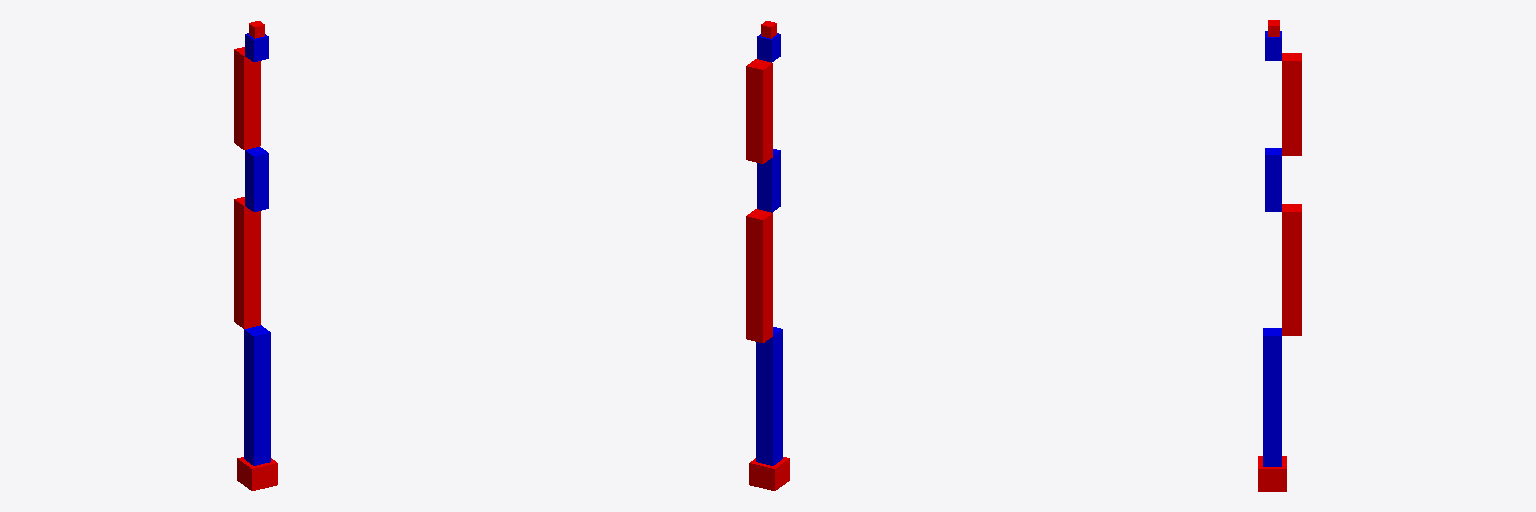
The robot description file, URDF, robot "armdemo":
<?xml version="1.0" ?>
<robot name="armdemo">

  <material name="red">
    <color rgba="1.0 0.0 0.0 1.0"/>
  </material>
  <material name="green">
    <color rgba="0.0 1.0 0.0 1.0"/>
  </material>
  <material name="blue">
    <color rgba="0.0 0.0 1.0 1.0"/>
  </material>

  <!-- base(world) -->
  <link name="base_link"/>
  
  <!-- base joint  -->
  <joint name="base_joint" type="fixed">
    <parent link="base_link"/>
    <child link="link1"/>
  </joint>
 
  <!-- Link1 link & joint -->
  <link name="link1">
    <collision>
      <origin rpy="0 0 0" xyz="0 0 0.05"/>
      <geometry>
        <box size="0.12 0.12 0.1"/>
      </geometry>
    </collision>
    <visual>
      <origin rpy="0 0 0" xyz="0 0 0.05"/>
      <geometry>
        <box size="0.12 0.12 0.1"/>
      </geometry>
      <material name="red"/>
    </visual>
    <inertial>
      <origin rpy="0 0 0" xyz="0 0 0"/>
      <mass value="50"/>
      <inertia ixx="0" ixy="0.1" ixz="0.0" iyy="1" iyz="0.0" izz="0.1"/>
    </inertial>
  </link>
   <joint name="joint1" type="revolute">
    <parent link="link1"/>
    <child link="link2"/>
    <origin rpy="0 0 0" xyz="0 0 0.1"/>
   
    <axis xyz="0 0 1"/>
    <dynamics damping="0.05"/>
    <limit effort="30" lower="-3" upper="3" velocity="2"/>
  </joint>
  
  <!-- Link2 link & joint -->
  <link name="link2">
    <collision>
      <origin rpy="0 0 0" xyz="0 0 0.29"/>
      <geometry>
        <box size="0.08 0.08 0.58"/>
      </geometry>
    </collision>
    <visual>
      <origin rpy="0 0 0" xyz="0 0 0.29"/>
      <geometry>
        <box size="0.08 0.08 0.58"/>
      </geometry>
      <material name="blue"/>
    </visual>
    <inertial>
      <origin rpy="0 0 0" xyz="0 0 0.1"/>
      <mass value="0.1"/>
      <inertia ixx="0.01" ixy="0.0" ixz="0.0" iyy="0.01" iyz="0.0" izz="0.01"/>
    </inertial>
  </link>
  <joint name="joint2" type="revolute">
    <parent link="link2"/>
    <child link="link3"/>
    <origin rpy="0 0 0" xyz="0 0.08 0.58"/>
   
    <axis xyz="0 1 0"/>
    <dynamics damping="0.05"/>
    <limit effort="30" lower="-1.6" upper="1.6" velocity="2"/>
  </joint>
  
  <!-- Link3 link & joint -->
 
  <link name="link3">
    <collision>
      <origin rpy="0 0 0" xyz="0 0 0.275"/>
      <geometry>
        <box size="0.08 0.08 0.55"/>
      </geometry>
    </collision>
    <visual>
      <origin rpy="0 0 0" xyz="0 0 0.275"/>
      <geometry>
        <box size="0.08 0.08 0.55"/>
      </geometry>
      <material name="red"/>
    </visual>
    <inertial>
      <origin rpy="0 0 0" xyz="0 0 0.1"/>
      <mass value="0.1"/>
       <inertia ixx="0.01" ixy="0.0" ixz="0.0" iyy="0.01" iyz="0.0" izz="0.01"/>
    </inertial>
  </link>
  <joint name="joint3" type="revolute">
    <parent link="link3"/>
    <child link="link4"/>
    <origin rpy="0 0 0" xyz="0 -0.075 0.55"/>

    <axis xyz="0 1 0"/>
    <dynamics damping="0.1"/>
    <limit effort="30" lower="-0.9" upper="3" velocity="2"/>
  </joint>

  <!-- Link4 link & joint -->
 
  <link name="link4">
    <collision>
      <origin rpy="0 0 0" xyz="0 0 0.075"/>
      <geometry>
        <box size="0.07 0.07 0.15"/>
      </geometry>
    </collision>
    <visual>
      <origin rpy="0 0 0" xyz="0 0 0.075"/>
      <geometry>
        <box size="0.07 0.07 0.15"/>
      </geometry>
      <material name="blue"/>
    </visual>
    <inertial>
      <origin rpy="0 0 0" xyz="0 0 0.1"/>
      <mass value="0.1"/>
       <inertia ixx="0.01" ixy="0.0" ixz="0.0" iyy="0.01" iyz="0.0" izz="0.01"/>
    </inertial>
  </link>
  <joint name="joint4" type="revolute">
    <parent link="link4"/>
    <child link="link5"/>
    <origin rpy="0 0 0" xyz="0 0 0.15"/>
 
    <axis xyz="0 0 1"/>
    <dynamics damping="0.1"/>
    <limit effort="30" lower="-3" upper="3" velocity="2"/>
  </joint>

  <!-- Link5 link & joint -->
  <link name="link5">
        <collision>
      <origin rpy="0 0 0" xyz="0 0 0.05"/>
      <geometry>
        <box size="0.07 0.07 0.1"/>
      </geometry>
    </collision>
    <visual>
      <origin rpy="0 0 0" xyz="0 0 0.05"/>
      <geometry>
        <box size="0.07 0.07 0.1"/>
      </geometry>
      <material name="blue"/>
    </visual>
    <inertial>
      <origin rpy="0 0 0" xyz="0 0 0.1"/>
      <mass value="0.1"/>
       <inertia ixx="0.01" ixy="0.0" ixz="0.0" iyy="0.01" iyz="0.0" izz="0.01"/>
    </inertial>
  </link>
  <joint name="joint5" type="revolute">
    <parent link="link5"/>
    <child link="link6"/>
    <origin rpy="0 0 0" xyz="0 0.075 0.1"/>
 
    <axis xyz="0 1 0"/>
    <dynamics damping="0.1"/>
    <limit effort="30" lower="-2.25" upper="2.25" velocity="2"/>
  </joint>
  
  <!-- Link6 link & joint -->
  
  <link name="link6">
    <collision>
      <origin rpy="0 0 0" xyz="0 0 0.21"/>
      <geometry>
        <box size="0.08 0.08 0.42"/>
      </geometry>
    </collision>
    <visual>
      <origin rpy="0 0 0" xyz="0 0 0.21"/>
      <geometry>
        <box size="0.08 0.08 0.42"/>
      </geometry>
      <material name="red"/>
    </visual>
    <inertial>
      <origin rpy="0 0 0" xyz="0 0 0.1"/>
      <mass value="0.1"/>
       <inertia ixx="0.01" ixy="0.0" ixz="0.0" iyy="0.01" iyz="0.0" izz="0.01"/>
    </inertial>
  </link>
  <joint name="joint6" type="revolute">
    <parent link="link6"/>
    <child link="link7"/>
    <origin rpy="0 0 0" xyz="0 -0.075 0.42"/>
    <axis xyz="0 1 0"/>
    <dynamics damping="0.1"/>
    <limit effort="30" lower="-2.25" upper="2.25" velocity="2"/>
  </joint>

  <!-- Link7 link & joint -->
  <link name="link7">
    <collision>
      <origin rpy="0 0 0" xyz="0 0 0.05"/>
      <geometry>
        <box size="0.07 0.07 0.1"/>
      </geometry>
    </collision>
    <visual>
      <origin rpy="0 0 0" xyz="0 0 0.05"/>
      <geometry>
        <box size="0.07 0.07 0.1"/>
      </geometry>
      <material name="blue"/>
    </visual>
    <inertial>
      <origin rpy="0 0 0" xyz="0 0 0.1"/>
      <mass value="0.1"/>
       <inertia ixx="0.01" ixy="0.0" ixz="0.0" iyy="0.01" iyz="0.0" izz="0.01"/>
    </inertial>
  </link>
  <joint name="joint7" type="revolute">
    <parent link="link7"/>
    <child link="link8"/>
    <origin rpy="0 0 0" xyz="0 0 0.1"/>
    <axis xyz="0 0 1"/>
    <dynamics damping="0.1"/>
    <limit effort="30" lower="-3" upper="3" velocity="2"/>
  </joint>

 <!-- Link8 (end effector)-->
  <link name="link8">
    <collision>
      <origin rpy="0 0 0" xyz="0 0 0.025"/>
      <geometry>
        <box size="0.05 0.05 0.05"/>
      </geometry>
    </collision>
    <visual>
      <origin rpy="0 0 0" xyz="0 0 0.025"/>
      <geometry>
        <box size="0.05 0.05 0.05"/>
      </geometry>
      <material name="red"/>
    </visual>
    <inertial>
      <origin rpy="0 0 0" xyz="0 0 0.01"/>
      <mass value="0.1"/>
        <inertia ixx="0.01" ixy="0.0" ixz="0.0" iyy="0.01" iyz="0.0" izz="0.01"/>
    </inertial>
  </link>

  <transmission name="link1_trans">
    <type>transmission_interface/SimpleTransmission</type>
      <joint name="joint1">
      <hardwareInterface>hardware_interface/EffortJointInterface</hardwareInterface>
    </joint>
    <actuator name="link1_motor">
      <hardwareInterface>hardware_interface/EffortJointInterface</hardwareInterface>
      <mechanicalReduction>1</mechanicalReduction>
    </actuator>
  </transmission>
  <transmission name="link2_trans">
    <type>transmission_interface/SimpleTransmission</type>
      <joint name="joint2">
      <hardwareInterface>hardware_interface/EffortJointInterface</hardwareInterface>
    </joint>
    <actuator name="link2_motor">
      <hardwareInterface>hardware_interface/EffortJointInterface</hardwareInterface>
      <mechanicalReduction>1</mechanicalReduction>
    </actuator>
  </transmission>
  <transmission name="link3_trans">
    <type>transmission_interface/SimpleTransmission</type>
      <joint name="joint3">
      <hardwareInterface>hardware_interface/EffortJointInterface</hardwareInterface>
    </joint>
    <actuator name="link3_motor">
      <hardwareInterface>hardware_interface/EffortJointInterface</hardwareInterface>
      <mechanicalReduction>1</mechanicalReduction>
    </actuator>
  </transmission>
  <transmission name="link4_trans">
    <type>transmission_interface/SimpleTransmission</type>
      <joint name="joint4">
      <hardwareInterface>hardware_interface/EffortJointInterface</hardwareInterface>
    </joint>
    <actuator name="link4_motor">
      <hardwareInterface>hardware_interface/EffortJointInterface</hardwareInterface>
      <mechanicalReduction>1</mechanicalReduction>
    </actuator>
  </transmission>
  <transmission name="link5_trans">
    <type>transmission_interface/SimpleTransmission</type>
      <joint name="joint5">
      <hardwareInterface>hardware_interface/EffortJointInterface</hardwareInterface>
    </joint>
    <actuator name="link5_motor">
      <hardwareInterface>hardware_interface/EffortJointInterface</hardwareInterface>
      <mechanicalReduction>1</mechanicalReduction>
    </actuator>
  </transmission>
  <transmission name="link6_trans">
    <type>transmission_interface/SimpleTransmission</type>
      <joint name="joint6">
      <hardwareInterface>hardware_interface/EffortJointInterface</hardwareInterface>
    </joint>
    <actuator name="link6_motor">
      <hardwareInterface>hardware_interface/EffortJointInterface</hardwareInterface>
      <mechanicalReduction>1</mechanicalReduction>
    </actuator>
  </transmission>
  <transmission name="link7_trans">
    <type>transmission_interface/SimpleTransmission</type>
      <joint name="joint7">
      <hardwareInterface>hardware_interface/EffortJointInterface</hardwareInterface>
    </joint>
    <actuator name="link7_motor">
      <hardwareInterface>hardware_interface/EffortJointInterface</hardwareInterface>
      <mechanicalReduction>1</mechanicalReduction>
    </actuator>
  </transmission>
  <gazebo>
    <plugin name="gazebo_ros_control" filename="libgazebo_ros_control.so">
      <robotNamespace>/</robotNamespace>
      <robotSimType>gazebo_ros_control/DefaultRobotHWSim</robotSimType>
      <legacyModeNS>true</legacyModeNS>
    </plugin>
  </gazebo>

</robot>

--- What the picture shows (computed from the rendered views, not written in the file) ---
Views: 3 orthographic renders of the robot side by side, from view 1: azimuth 30°, elevation 25°; view 2: azimuth 150°, elevation 25°; view 3: azimuth 270°, elevation 25°.
Robot: armdemo — 9 links, 8 joints (7 revolute, 1 fixed); root link base_link; default pose: every joint at zero.
Links seen in each view (by area): view 1: link2, link3, link6, link1, link4, link5, link7; view 2: link3, link2, link6, link1, link4, link7; view 3: link2, link3, link6, link1, link4.
Link boxes in pixels (x1,y1,x2,y2): link2: (244, 325, 270, 465); link3: (234, 197, 260, 328); link6: (234, 47, 260, 149); link1: (237, 457, 277, 490); link4: (245, 173, 268, 211); link5: (245, 147, 268, 178); link7: (245, 33, 268, 61); link3: (746, 209, 772, 342); link2: (756, 327, 782, 465); link6: (746, 59, 772, 163); link1: (749, 457, 789, 490); link4: (757, 173, 780, 212); link7: (757, 33, 780, 62); link2: (1263, 328, 1281, 466); link3: (1282, 204, 1301, 335); link6: (1282, 53, 1301, 155); link1: (1258, 456, 1286, 491); link4: (1265, 178, 1281, 211).
Size in the robot's own frame: 0.12 by 0.18 by 2.05 metres.
Geometry: primitives only (box / cylinder / sphere), no mesh files.